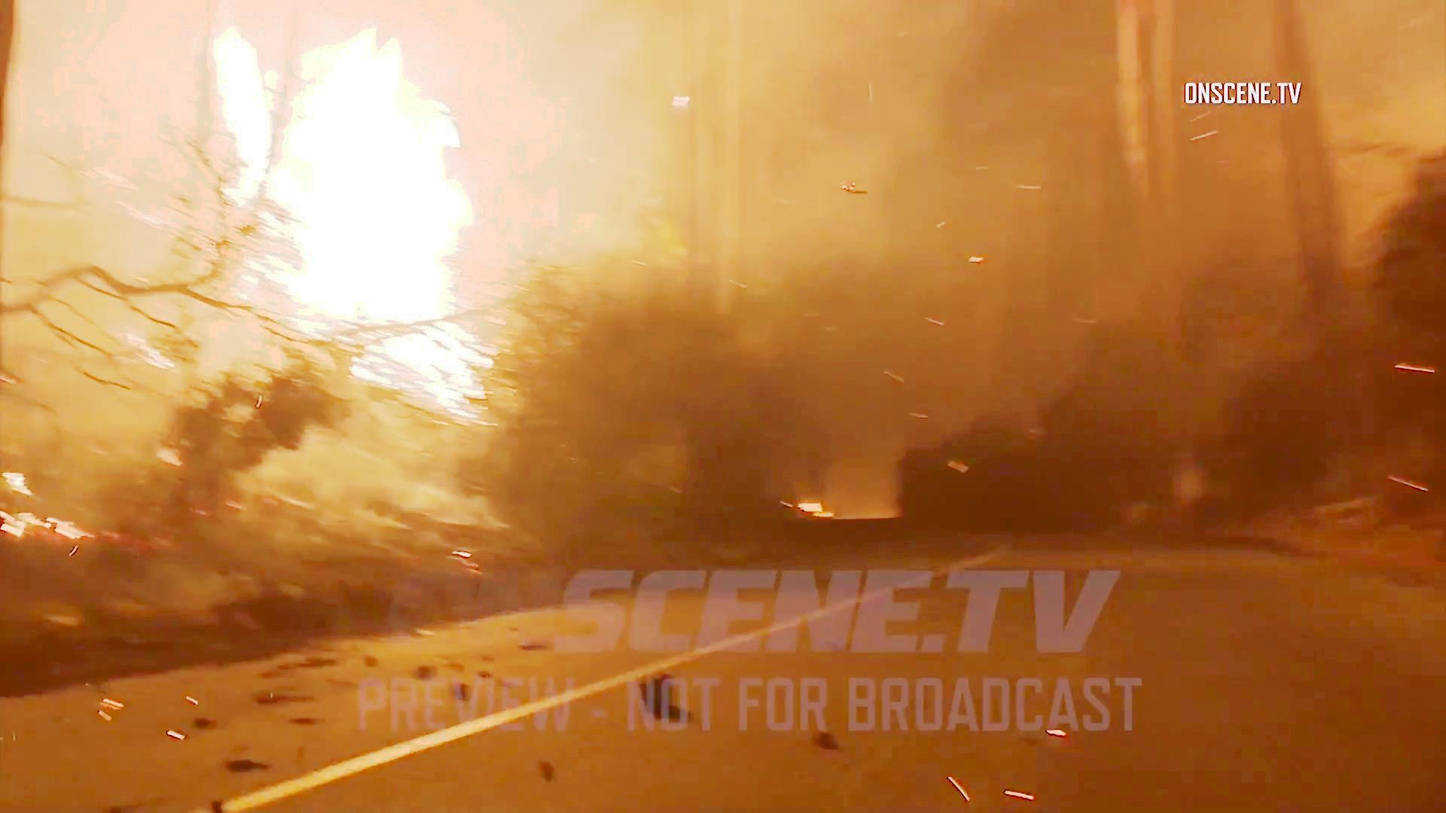fire: (147, 0, 473, 405)
